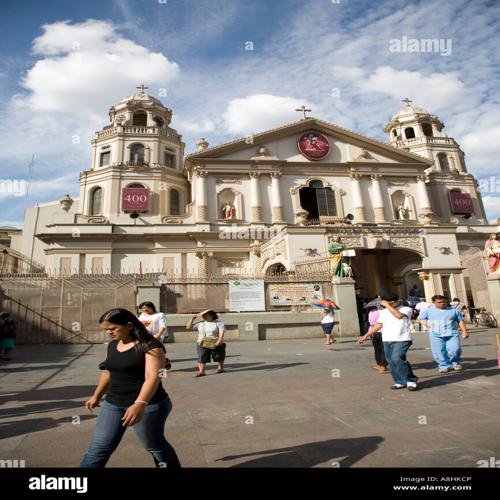Quiapo Church: (34, 71, 492, 339)
